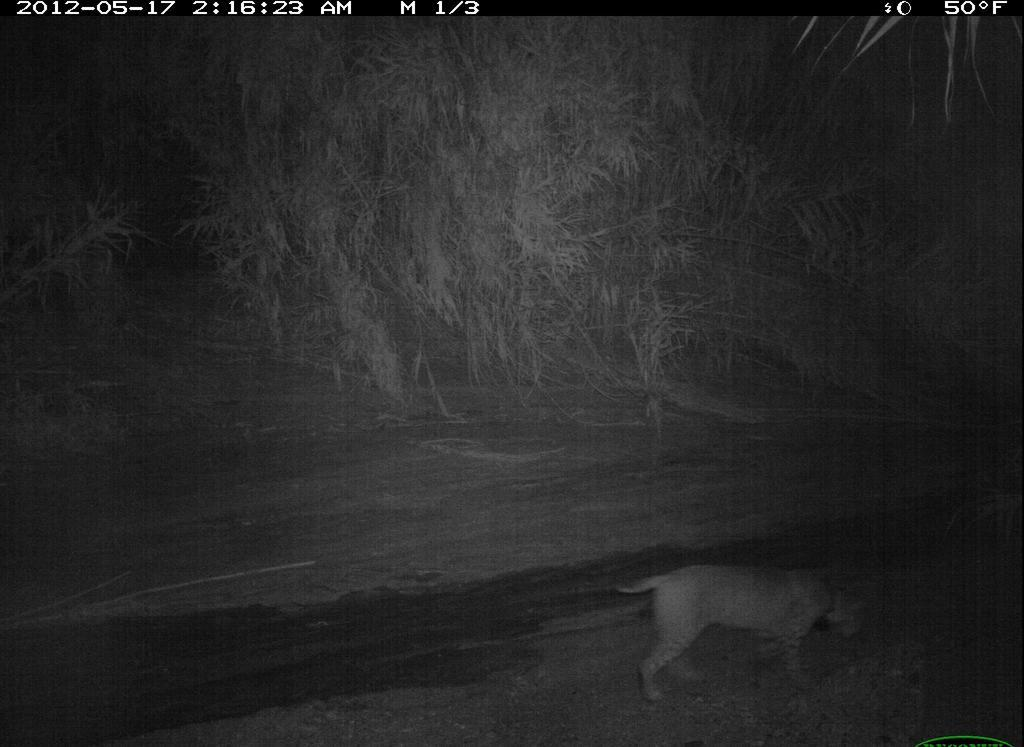bobcat: (605, 555, 876, 711)
